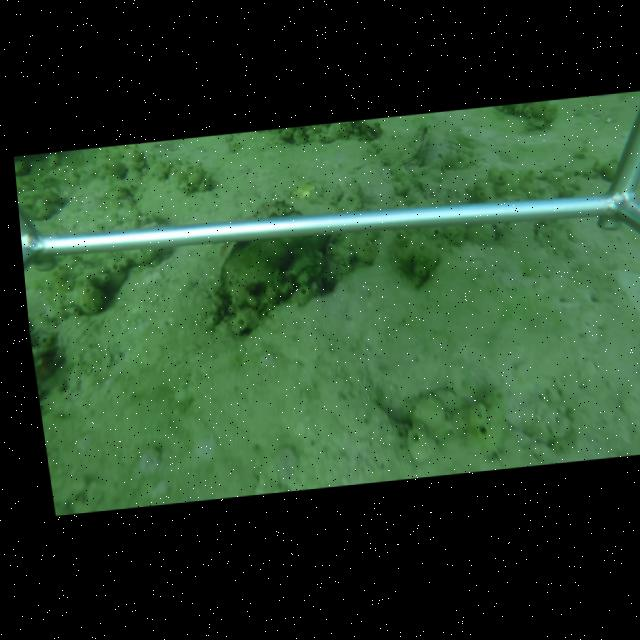Oyster-Closed: (389, 125, 432, 170)
